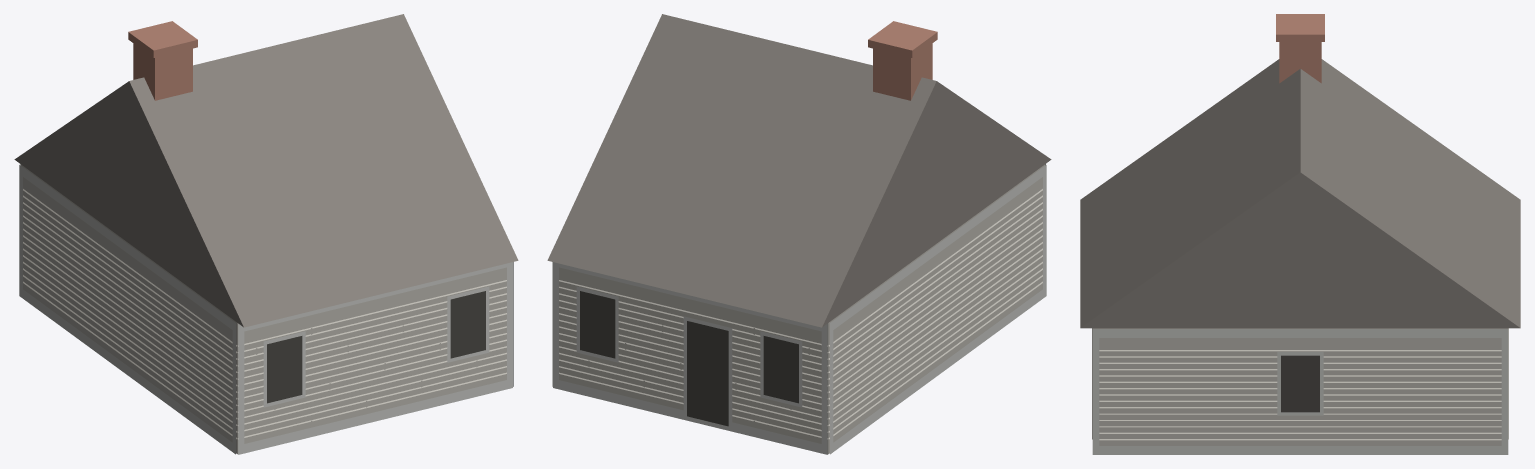
The model's file is recon_1835_south_d4_030__inferred_1835.glb.
3 views of the same model, side by side, from view 1: azimuth 30°, elevation 25°; view 2: azimuth 150°, elevation 25°; view 3: azimuth 270°, elevation 25° (orthographic). The views are drawn at different scales.
Parts seen in each view (by area): view 1: recon_1835_south_d4_030__inferred_1835; view 2: recon_1835_south_d4_030__inferred_1835; view 3: recon_1835_south_d4_030__inferred_1835.
Part boxes in pixels (left/top/right/bottom): recon_1835_south_d4_030__inferred_1835: left=14, top=14, right=518, bottom=454; recon_1835_south_d4_030__inferred_1835: left=547, top=14, right=1051, bottom=454; recon_1835_south_d4_030__inferred_1835: left=1080, top=14, right=1520, bottom=454.
Size of the model in its own units: 6.16 by 7 by 8.8.
